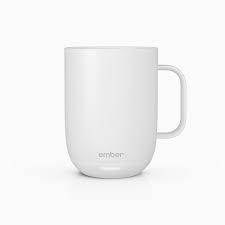mug: (55, 39, 188, 182)
